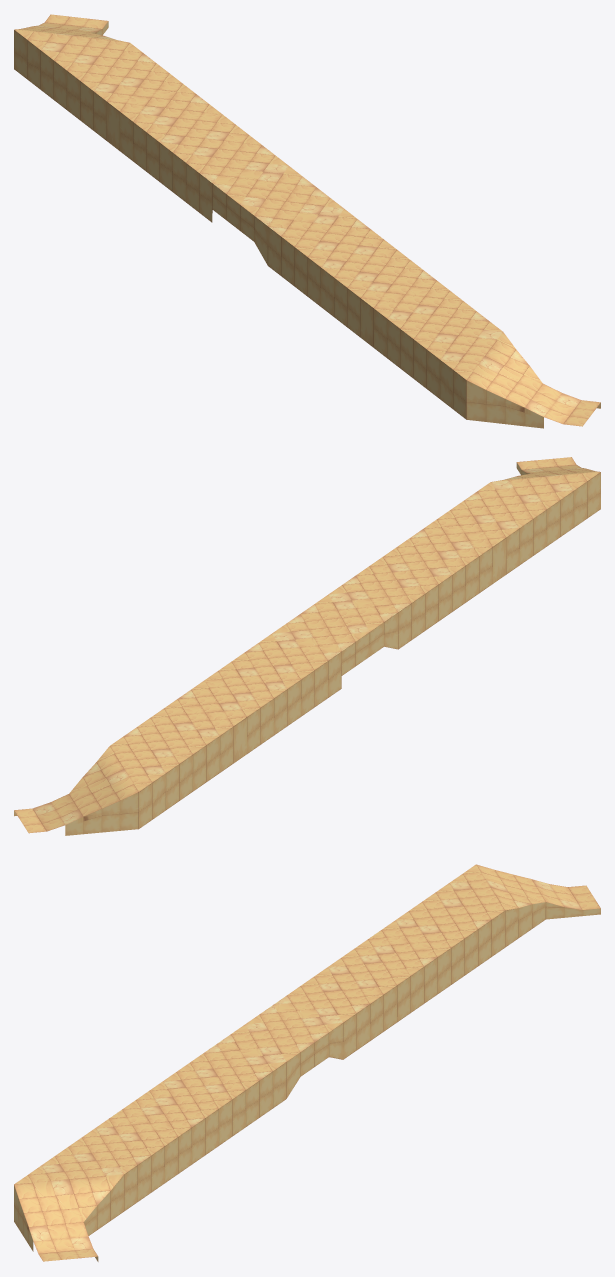
File: brigdeback.FBX
3 renders of one model, top to bottom at view 1: azimuth 30°, elevation 25°; view 2: azimuth 150°, elevation 25°; view 3: azimuth 330°, elevation 25°, orthographic. The views are drawn at different scales.
Parts seen in each view (by area): view 1: Object008; view 2: Object008; view 3: Object008.
Boxes of the visible parts, <box> form: Object008: <box>14,14,600,428</box>; Object008: <box>14,457,600,835</box>; Object008: <box>14,864,600,1261</box>.
Bounding box in the file's own units: 865 × 245 × 6219.
Materials: 1 (1 with a texture image).
